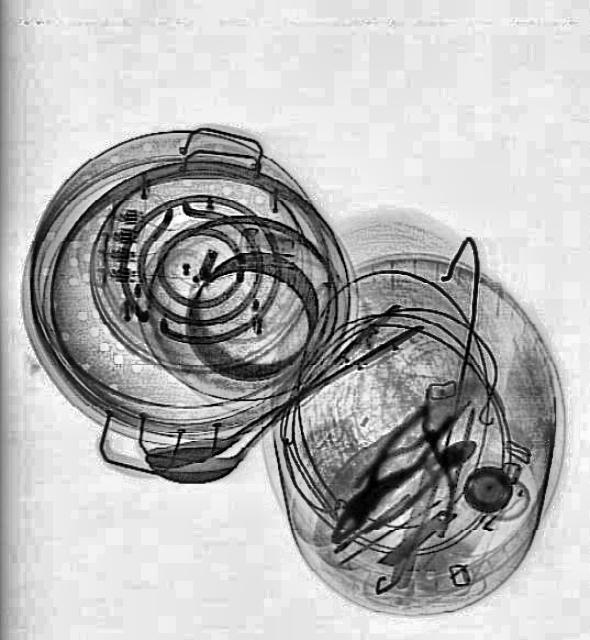Pliers: (314, 396, 458, 554), (320, 424, 484, 554)
